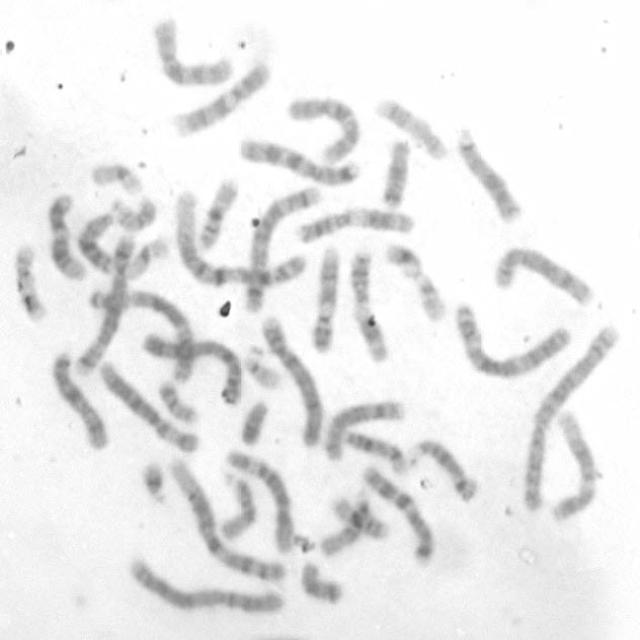A1: (165, 451, 289, 588), (170, 184, 312, 290)
A2: (515, 321, 622, 517), (126, 553, 290, 616)
A3: (82, 285, 199, 383), (450, 296, 573, 380)
B4: (258, 311, 326, 449), (140, 328, 244, 407)
B5: (239, 182, 324, 314), (69, 229, 137, 379)
C10: (147, 11, 237, 88), (282, 91, 362, 166)
C11: (345, 244, 391, 364), (293, 203, 417, 246)
C12: (547, 406, 599, 524), (43, 188, 90, 283)
C6: (95, 357, 203, 454), (222, 447, 294, 555)
C7: (358, 461, 437, 566), (236, 134, 361, 187)
C8: (488, 240, 597, 309), (321, 394, 406, 463)
C9: (166, 58, 273, 140), (307, 243, 341, 354)
D13: (450, 121, 526, 226), (74, 206, 116, 276)
D14: (407, 434, 479, 504), (339, 427, 408, 476)
D15: (316, 486, 373, 559), (216, 468, 257, 542)
E16: (193, 174, 240, 252), (326, 492, 391, 542)
E17: (371, 94, 448, 163), (10, 240, 49, 324)
E18: (377, 136, 412, 208), (298, 558, 345, 605)
F19: (122, 232, 169, 282), (87, 160, 146, 197)
F20: (154, 377, 200, 426), (112, 193, 160, 234)
G21: (381, 238, 422, 279), (138, 456, 169, 504)
G22: (238, 341, 284, 392), (410, 268, 448, 324)
X: (48, 347, 110, 452)
Y: (237, 394, 270, 446)
